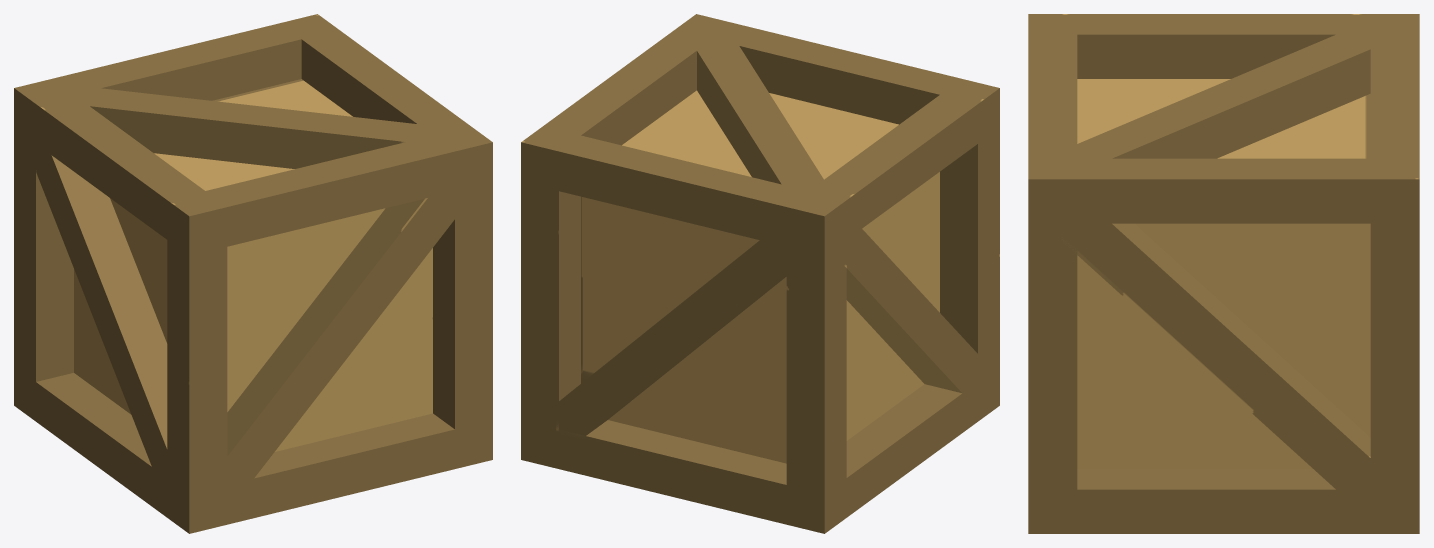
The picture shows the model from 3 angles, left to right: view 1: azimuth 30°, elevation 25°; view 2: azimuth 150°, elevation 25°; view 3: azimuth 270°, elevation 25°; orthographic projection. The views are drawn at different scales.
Parts seen in each view (by area): view 1: Cube; view 2: Cube; view 3: Cube.
Part boxes in pixels (x1,y1,x2,y2): Cube: (14,14,492,533); Cube: (521,14,999,533); Cube: (1028,14,1419,533).
Bounding box in the file's own units: 2 × 2 × 2.
Materials: 1 (1 with a texture image).
